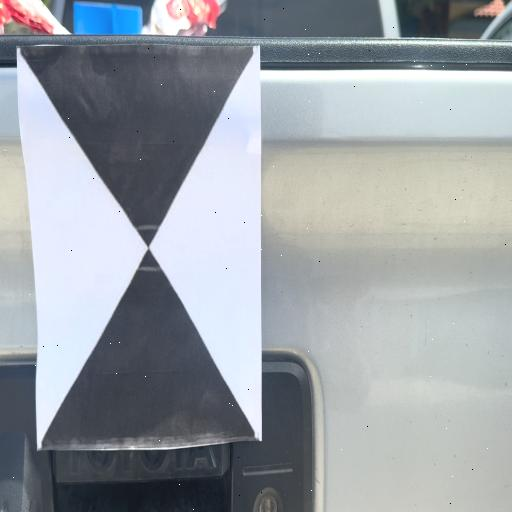target: (23, 52, 257, 444)
